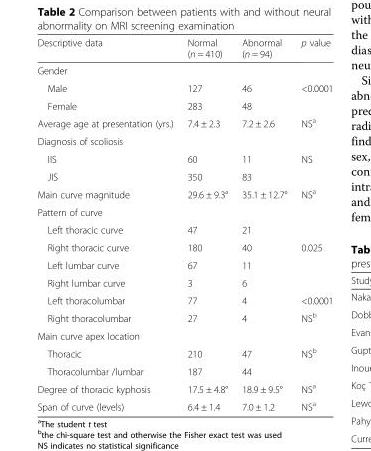table: (36, 36, 332, 412)
table column: (36, 36, 179, 412), (234, 36, 293, 412), (179, 36, 234, 412), (293, 36, 332, 412)
table column header: (36, 36, 332, 61)
table projected row header: (36, 202, 332, 220), (36, 61, 332, 78), (36, 132, 332, 149), (36, 326, 332, 343)
table row: (36, 36, 332, 61), (36, 113, 332, 132), (36, 343, 332, 362), (36, 78, 332, 96), (36, 149, 332, 167), (36, 184, 332, 202), (36, 202, 332, 220), (36, 220, 332, 238), (36, 238, 332, 256), (36, 273, 332, 291), (36, 308, 332, 326), (36, 61, 332, 78), (36, 96, 332, 113), (36, 132, 332, 149), (36, 167, 332, 184), (36, 256, 332, 273), (36, 291, 332, 308), (36, 326, 332, 343), (36, 362, 332, 379), (36, 379, 332, 396), (36, 396, 332, 412)
table spanning cell: (293, 343, 332, 379), (293, 78, 332, 113), (293, 149, 332, 184)
